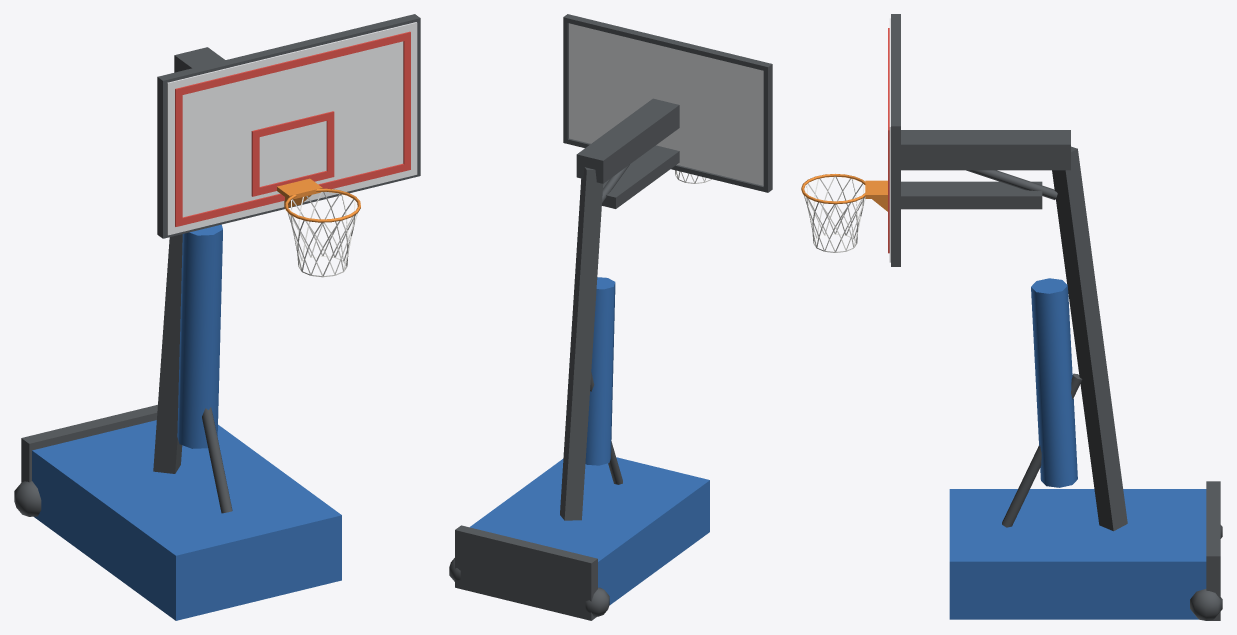
Rendered from prop_basket_hoop.glb.
3 views of the same model, side by side, from view 1: azimuth 30°, elevation 25°; view 2: azimuth 150°, elevation 25°; view 3: azimuth 270°, elevation 25° (orthographic). The views are drawn at different scales.
Visible parts, largest first — view 1: BasketHoop; view 2: BasketHoop; view 3: BasketHoop.
Part boxes in pixels (bbox=[...]): BasketHoop: bbox=[14, 14, 420, 620]; BasketHoop: bbox=[449, 14, 772, 620]; BasketHoop: bbox=[801, 14, 1222, 620].
Size of the model in its own units: 1.86 by 3.97 by 2.95.
